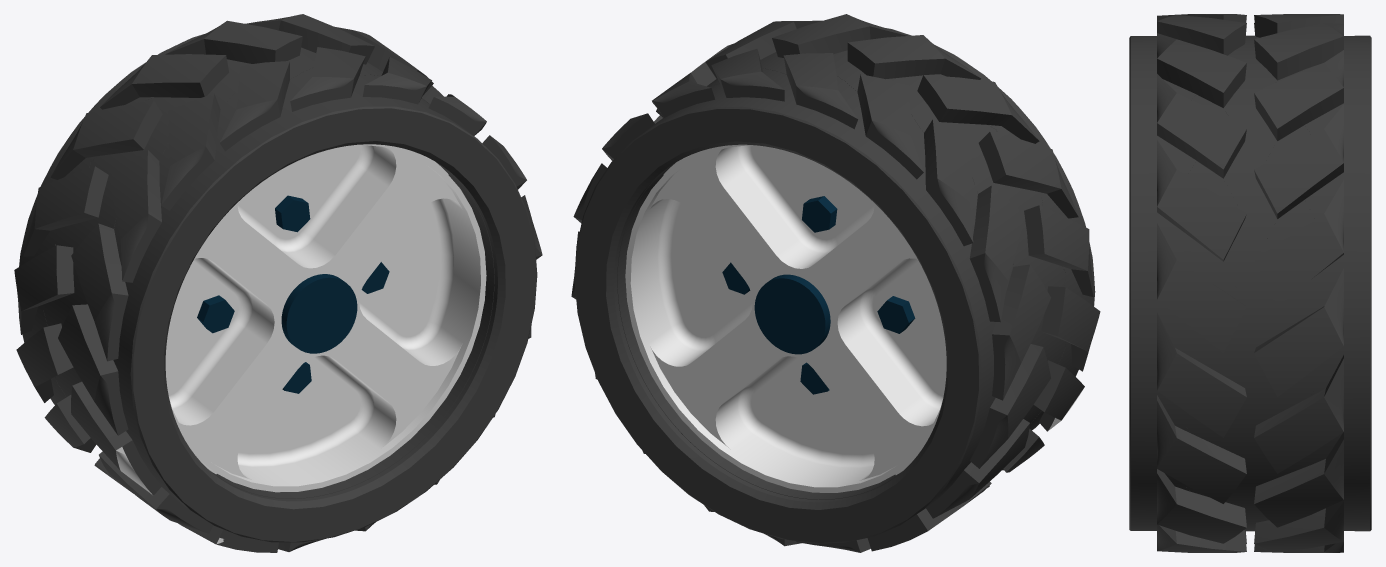
File: 4-spoke-mt-grey-on-ally.glb
The picture shows the model from 3 angles, left to right: view 1: azimuth 30°, elevation 25°; view 2: azimuth 150°, elevation 25°; view 3: azimuth 270°, elevation 25°; orthographic projection. The views are drawn at different scales.
Visible parts, largest first — view 1: Body307, Body299, Body237, Body296, Body295; view 2: Body307, Body326, Body304, Body325, Body324; view 3: Body307.
Part boxes in pixels (x1,y1,x2,y2): Body307: [14, 14, 542, 552]; Body299: [165, 144, 486, 492]; Body237: [281, 274, 357, 353]; Body296: [275, 195, 310, 232]; Body295: [197, 295, 234, 333]; Body307: [571, 14, 1100, 552]; Body326: [625, 144, 946, 492]; Body304: [754, 274, 830, 354]; Body325: [802, 196, 837, 232]; Body324: [877, 296, 915, 333]; Body307: [1129, 14, 1371, 552].
Size of the model in its own units: 0.5 by 0.5 by 0.225.
